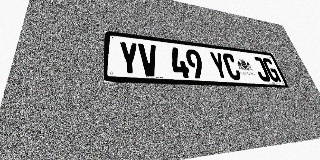4: (169, 47, 190, 78)
9: (184, 49, 206, 79)
C: (221, 53, 243, 80)
G: (261, 58, 282, 82)
J: (251, 56, 272, 82)
V: (138, 43, 160, 77)
Y: (118, 41, 140, 76), (208, 51, 230, 80)
